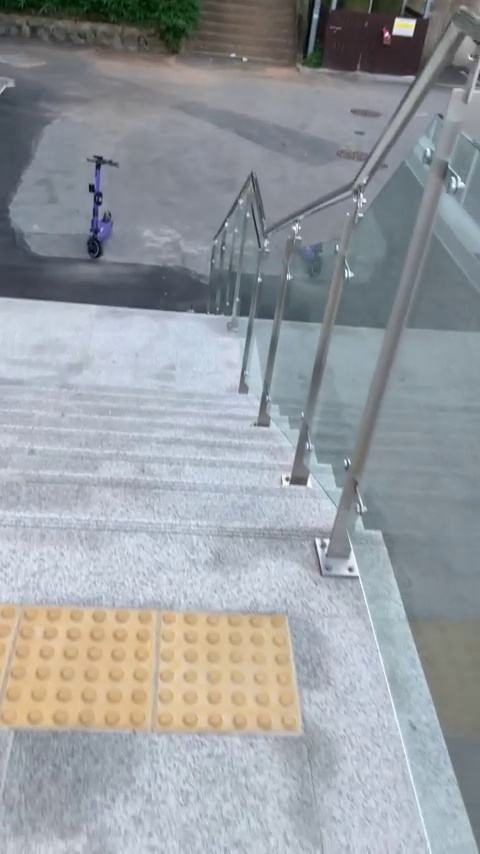beam: (75, 146, 130, 266)
